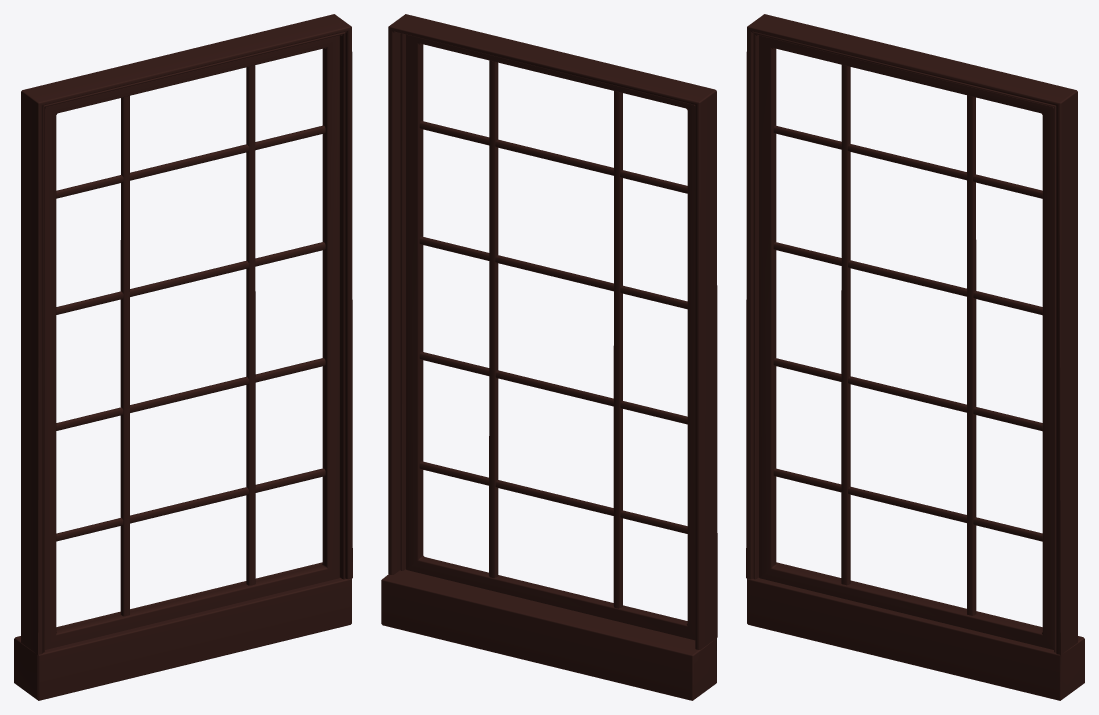
Rendered from WindowNoHandle.fbx.
3 views of the same model, side by side, from view 1: azimuth 30°, elevation 25°; view 2: azimuth 150°, elevation 25°; view 3: azimuth 330°, elevation 25° (orthographic).
Parts seen in each view (by area): view 1: WindowNoHandle; view 2: WindowNoHandle; view 3: WindowNoHandle.
Boxes of the visible parts, <box> form: WindowNoHandle: <box>14,14,352,700</box>; WindowNoHandle: <box>381,14,717,700</box>; WindowNoHandle: <box>746,14,1084,700</box>.
Size of the model in its own units: 148 by 269 by 20.14.
